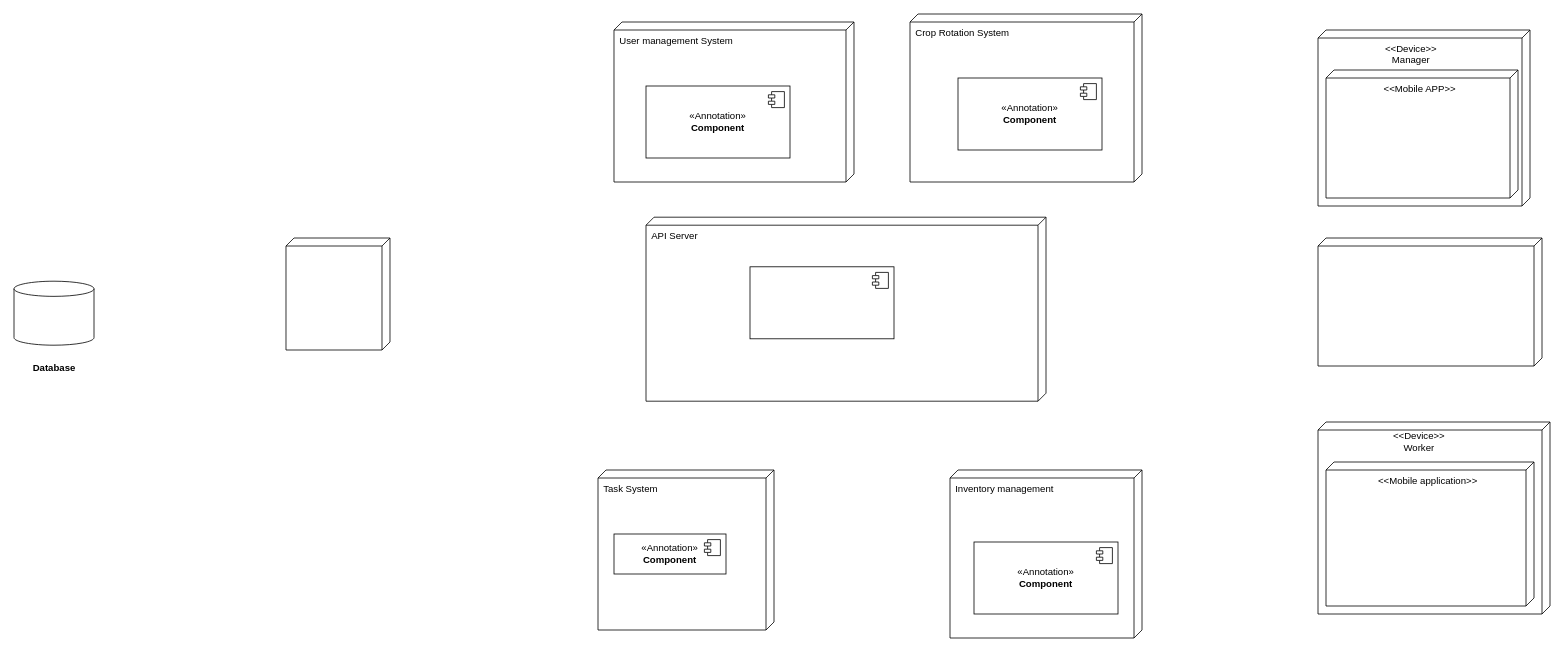
This 1564x652 diagram has some shape labels left out. The box of each missing label's shape, as (x1, y1, x2, y2) in pixels:
<<web service>>: (1317, 237, 1542, 366)
Database Server: (285, 237, 390, 350)
«Annotation» API Gateway Service: (749, 266, 894, 339)
